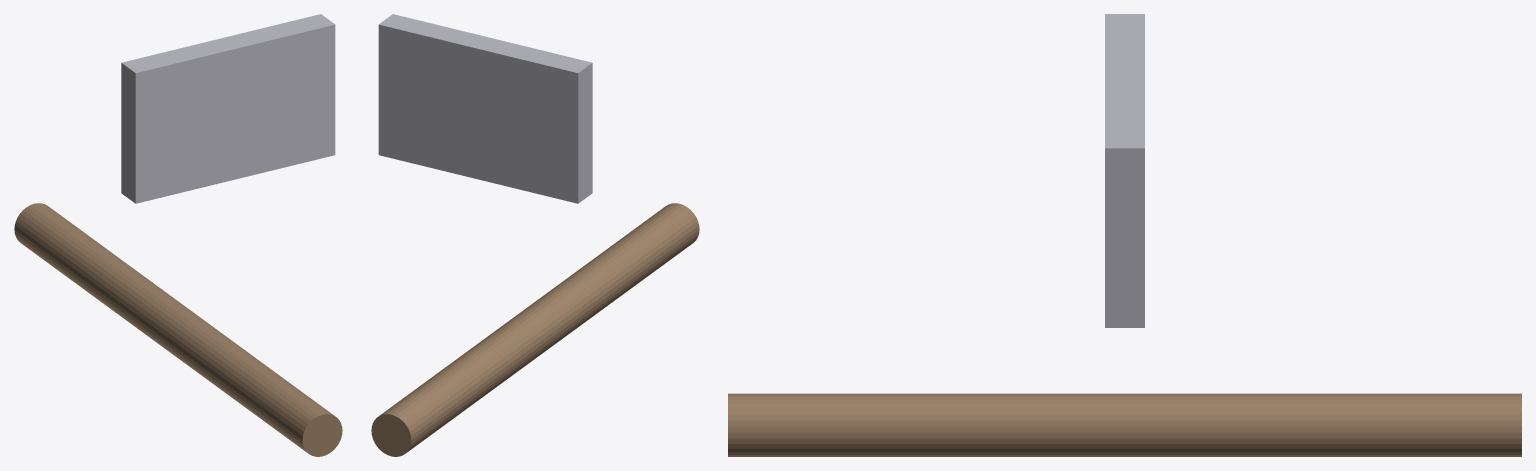
Rendered from weapon_axe.glb.
3 renders of one model, left to right at view 1: azimuth 30°, elevation 25°; view 2: azimuth 150°, elevation 25°; view 3: azimuth 270°, elevation 25°, orthographic. The views are drawn at different scales.
Parts seen in each view (by area): view 1: geometry_0; view 2: geometry_0; view 3: geometry_0.
Boxes of the visible parts, left/top/right/bottom form: geometry_0: left=14, top=14, right=342, bottom=456; geometry_0: left=371, top=14, right=699, bottom=456; geometry_0: left=728, top=14, right=1521, bottom=456.
Bounding box in the file's own units: 0.4 × 0.565 × 1.
